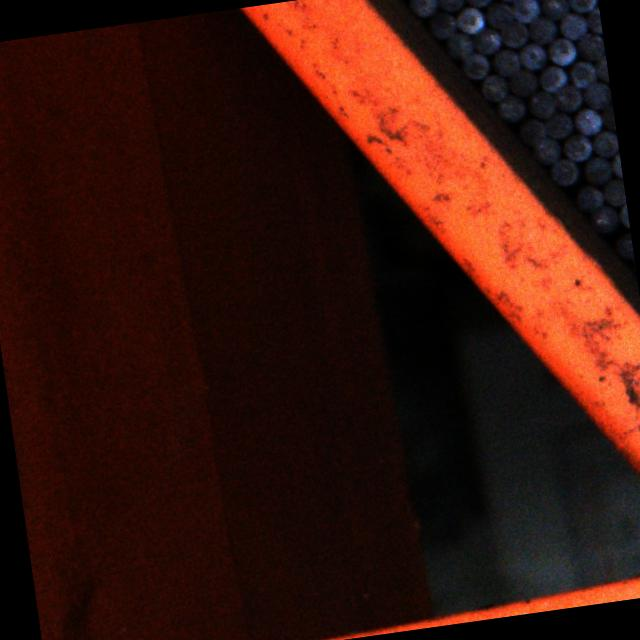tool: (580, 156, 612, 188), (526, 90, 558, 121), (494, 94, 525, 124), (576, 30, 606, 61), (456, 5, 486, 36), (562, 131, 592, 162), (546, 36, 577, 66), (516, 41, 546, 71), (506, 68, 536, 98), (478, 72, 508, 102), (427, 10, 457, 40), (590, 127, 620, 157), (488, 47, 518, 77), (551, 157, 581, 187), (531, 136, 561, 166), (553, 84, 583, 114), (538, 63, 568, 93), (583, 80, 613, 110), (566, 58, 596, 88), (472, 26, 502, 56), (574, 107, 604, 137), (558, 12, 588, 42), (516, 116, 546, 146), (528, 16, 558, 46), (500, 19, 530, 49), (590, 204, 620, 234), (444, 31, 474, 61), (461, 51, 491, 80), (573, 182, 602, 212), (544, 110, 574, 138), (482, 2, 512, 30), (602, 178, 626, 208), (511, 0, 541, 23), (539, 0, 569, 20), (615, 230, 634, 258), (599, 104, 617, 133), (593, 54, 610, 84), (408, 0, 437, 17), (586, 6, 602, 34), (568, 0, 598, 14), (610, 152, 624, 180), (435, 0, 465, 13), (618, 202, 630, 229), (462, 0, 493, 8)
